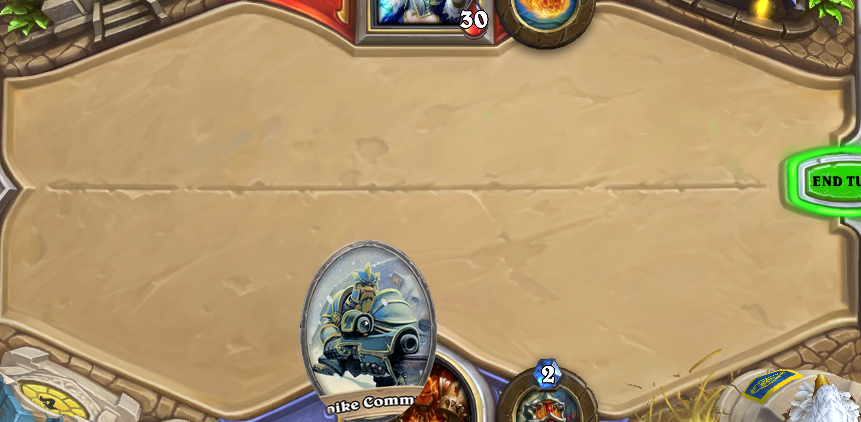CS2_150: (299, 239, 437, 422)
